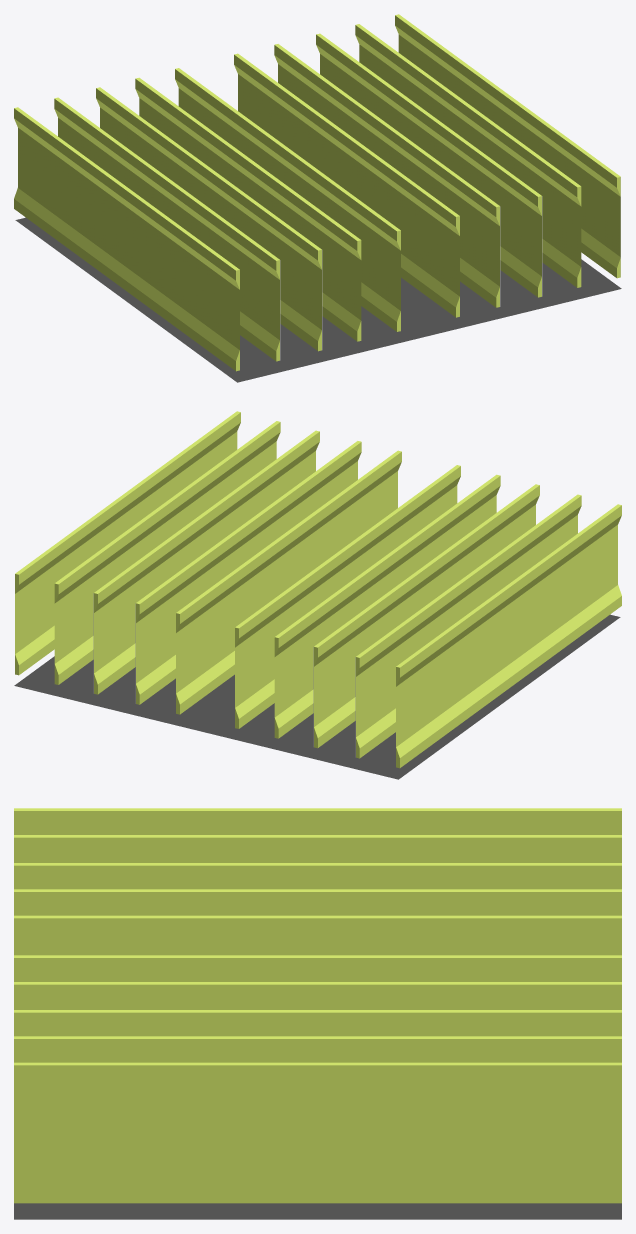
The model's file is Fall.dae.
The picture shows the model from 3 angles, top to bottom: view 1: azimuth 30°, elevation 25°; view 2: azimuth 150°, elevation 25°; view 3: azimuth 270°, elevation 25°; orthographic projection. The views are drawn at different scales.
Visible parts, largest first — view 1: node_4f50d954_e0e8_4ef2_a447_3134f70ed3ba_mesh7, node_4f50d954_e0e8_4ef2_a447_3134f70ed3ba_mesh5, node_4f50d954_e0e8_4ef2_a447_3134f70ed3ba_mesh3, node_4f50d954_e0e8_4ef2_a447_3134f70ed3ba_mesh1, node_4f50d954_e0e8_4ef2_a447_3134f70ed3ba_mesh8, node_4f50d954_e0e8_4ef2_a447_3134f70ed3ba_mesh9, node_4f50d954_e0e8_4ef2_a447_3134f70ed3ba_mesh4, node_4f50d954_e0e8_4ef2_a447_3134f70ed3ba_mesh6, node_4f50d954_e0e8_4ef2_a447_3134f70ed3ba_mesh0, node_4f50d954_e0e8_4ef2_a447_3134f70ed3ba_mesh10, node_4f50d954_e0e8_4ef2_a447_3134f70ed3ba_mesh2; view 2: node_4f50d954_e0e8_4ef2_a447_3134f70ed3ba_mesh7, node_4f50d954_e0e8_4ef2_a447_3134f70ed3ba_mesh5, node_4f50d954_e0e8_4ef2_a447_3134f70ed3ba_mesh3, node_4f50d954_e0e8_4ef2_a447_3134f70ed3ba_mesh8, node_4f50d954_e0e8_4ef2_a447_3134f70ed3ba_mesh1, node_4f50d954_e0e8_4ef2_a447_3134f70ed3ba_mesh9, node_4f50d954_e0e8_4ef2_a447_3134f70ed3ba_mesh4, node_4f50d954_e0e8_4ef2_a447_3134f70ed3ba_mesh6, node_4f50d954_e0e8_4ef2_a447_3134f70ed3ba_mesh0, node_4f50d954_e0e8_4ef2_a447_3134f70ed3ba_mesh2, node_4f50d954_e0e8_4ef2_a447_3134f70ed3ba_mesh10; view 3: node_4f50d954_e0e8_4ef2_a447_3134f70ed3ba_mesh0, node_4f50d954_e0e8_4ef2_a447_3134f70ed3ba_mesh6, node_4f50d954_e0e8_4ef2_a447_3134f70ed3ba_mesh4, node_4f50d954_e0e8_4ef2_a447_3134f70ed3ba_mesh9, node_4f50d954_e0e8_4ef2_a447_3134f70ed3ba_mesh1, node_4f50d954_e0e8_4ef2_a447_3134f70ed3ba_mesh2, node_4f50d954_e0e8_4ef2_a447_3134f70ed3ba_mesh5, node_4f50d954_e0e8_4ef2_a447_3134f70ed3ba_mesh7, node_4f50d954_e0e8_4ef2_a447_3134f70ed3ba_mesh8, node_4f50d954_e0e8_4ef2_a447_3134f70ed3ba_mesh10, node_4f50d954_e0e8_4ef2_a447_3134f70ed3ba_mesh3.
Boxes of the visible parts, x1,y1,x2,y2 form: node_4f50d954_e0e8_4ef2_a447_3134f70ed3ba_mesh7: [14, 107, 239, 371]; node_4f50d954_e0e8_4ef2_a447_3134f70ed3ba_mesh5: [234, 53, 459, 317]; node_4f50d954_e0e8_4ef2_a447_3134f70ed3ba_mesh3: [15, 217, 621, 382]; node_4f50d954_e0e8_4ef2_a447_3134f70ed3ba_mesh1: [316, 33, 542, 297]; node_4f50d954_e0e8_4ef2_a447_3134f70ed3ba_mesh8: [96, 87, 322, 351]; node_4f50d954_e0e8_4ef2_a447_3134f70ed3ba_mesh9: [54, 97, 280, 361]; node_4f50d954_e0e8_4ef2_a447_3134f70ed3ba_mesh4: [274, 44, 500, 307]; node_4f50d954_e0e8_4ef2_a447_3134f70ed3ba_mesh6: [175, 68, 400, 331]; node_4f50d954_e0e8_4ef2_a447_3134f70ed3ba_mesh0: [395, 14, 620, 278]; node_4f50d954_e0e8_4ef2_a447_3134f70ed3ba_mesh10: [135, 77, 361, 341]; node_4f50d954_e0e8_4ef2_a447_3134f70ed3ba_mesh2: [355, 24, 581, 287]; node_4f50d954_e0e8_4ef2_a447_3134f70ed3ba_mesh7: [396, 504, 621, 768]; node_4f50d954_e0e8_4ef2_a447_3134f70ed3ba_mesh5: [176, 450, 401, 714]; node_4f50d954_e0e8_4ef2_a447_3134f70ed3ba_mesh3: [14, 614, 620, 779]; node_4f50d954_e0e8_4ef2_a447_3134f70ed3ba_mesh8: [313, 484, 539, 748]; node_4f50d954_e0e8_4ef2_a447_3134f70ed3ba_mesh1: [93, 430, 319, 694]; node_4f50d954_e0e8_4ef2_a447_3134f70ed3ba_mesh9: [355, 494, 581, 758]; node_4f50d954_e0e8_4ef2_a447_3134f70ed3ba_mesh4: [135, 441, 361, 704]; node_4f50d954_e0e8_4ef2_a447_3134f70ed3ba_mesh6: [235, 465, 460, 728]; node_4f50d954_e0e8_4ef2_a447_3134f70ed3ba_mesh0: [15, 411, 240, 675]; node_4f50d954_e0e8_4ef2_a447_3134f70ed3ba_mesh2: [54, 421, 280, 684]; node_4f50d954_e0e8_4ef2_a447_3134f70ed3ba_mesh10: [274, 474, 500, 738]; node_4f50d954_e0e8_4ef2_a447_3134f70ed3ba_mesh0: [14, 1062, 621, 1203]; node_4f50d954_e0e8_4ef2_a447_3134f70ed3ba_mesh6: [14, 915, 621, 955]; node_4f50d954_e0e8_4ef2_a447_3134f70ed3ba_mesh4: [14, 982, 621, 1009]; node_4f50d954_e0e8_4ef2_a447_3134f70ed3ba_mesh9: [14, 835, 621, 862]; node_4f50d954_e0e8_4ef2_a447_3134f70ed3ba_mesh1: [14, 1010, 621, 1036]; node_4f50d954_e0e8_4ef2_a447_3134f70ed3ba_mesh2: [14, 1036, 621, 1062]; node_4f50d954_e0e8_4ef2_a447_3134f70ed3ba_mesh5: [14, 955, 621, 981]; node_4f50d954_e0e8_4ef2_a447_3134f70ed3ba_mesh7: [14, 808, 621, 834]; node_4f50d954_e0e8_4ef2_a447_3134f70ed3ba_mesh8: [14, 863, 621, 889]; node_4f50d954_e0e8_4ef2_a447_3134f70ed3ba_mesh10: [14, 889, 621, 915]; node_4f50d954_e0e8_4ef2_a447_3134f70ed3ba_mesh3: [14, 1203, 621, 1219].
Size of the model in its own units: 5018 by 1395 by 5000.
